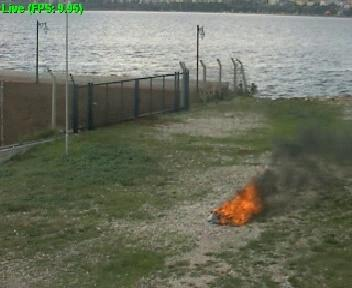fire: (208, 178, 269, 228)
smoke: (259, 124, 351, 214)
